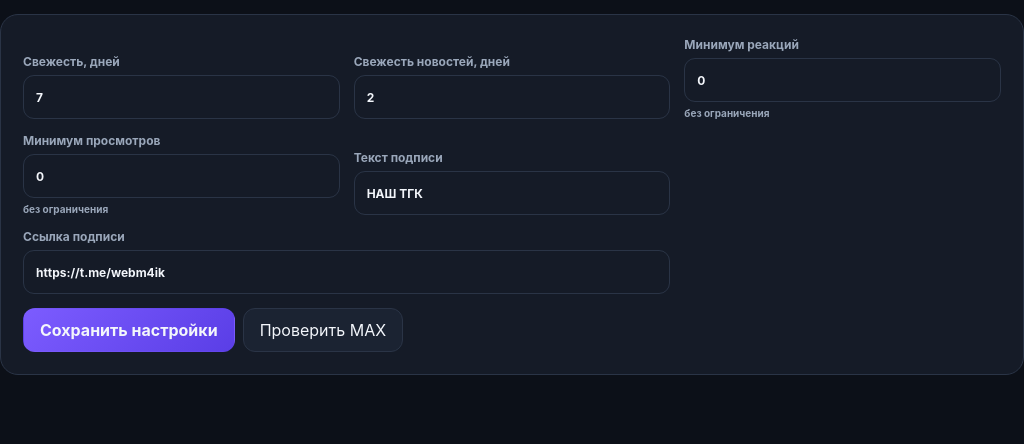
Test: SettingsForm › blocks invalid signature URL in the browser
This screenshot has width=1024, height=444.
Step 1. Replace the text in the field labelled "Ссылка подписи" with "file:///secret" → (347, 272), box [23, 250, 670, 294]
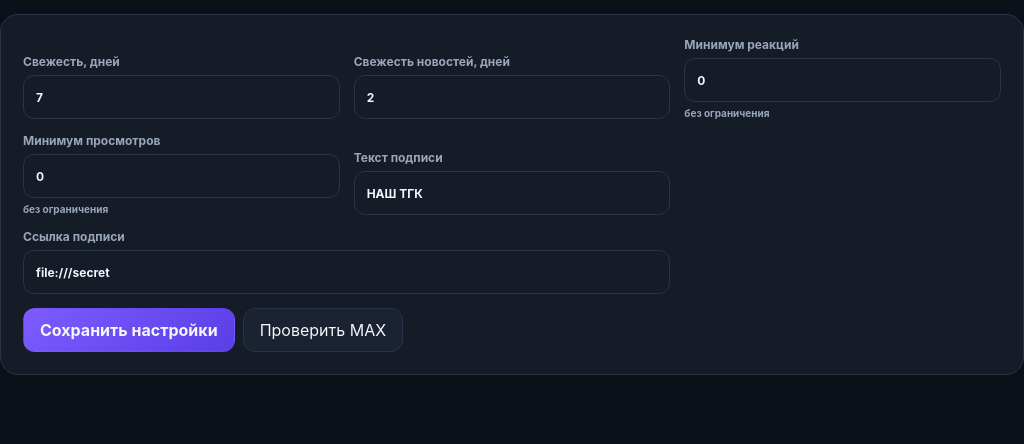
Step 2. Click the button "Сохранить настройки" → (129, 330), box [23, 308, 235, 352]
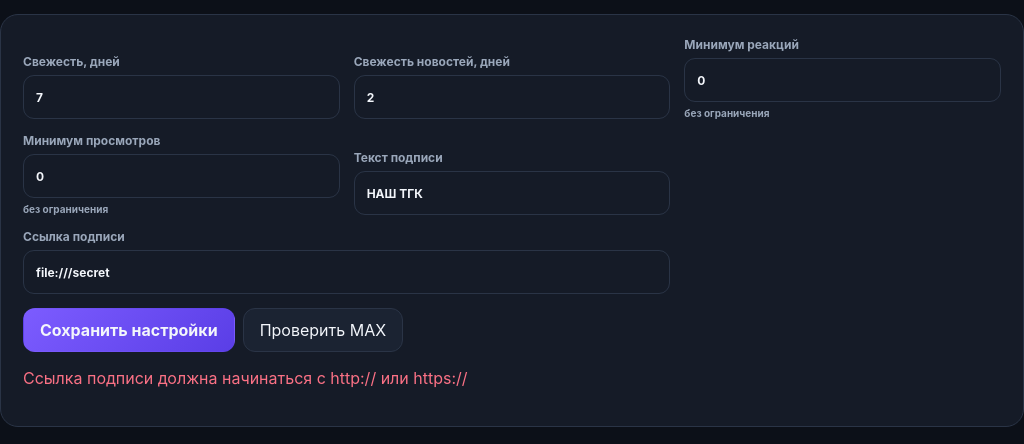
expect the message shows "http": met, box [23, 368, 468, 388]
